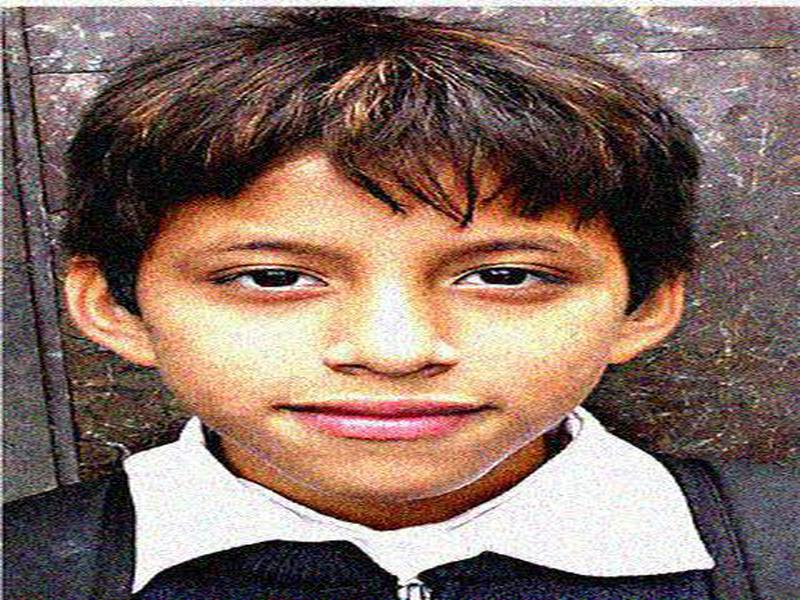without_mask: (139, 192, 628, 501)
